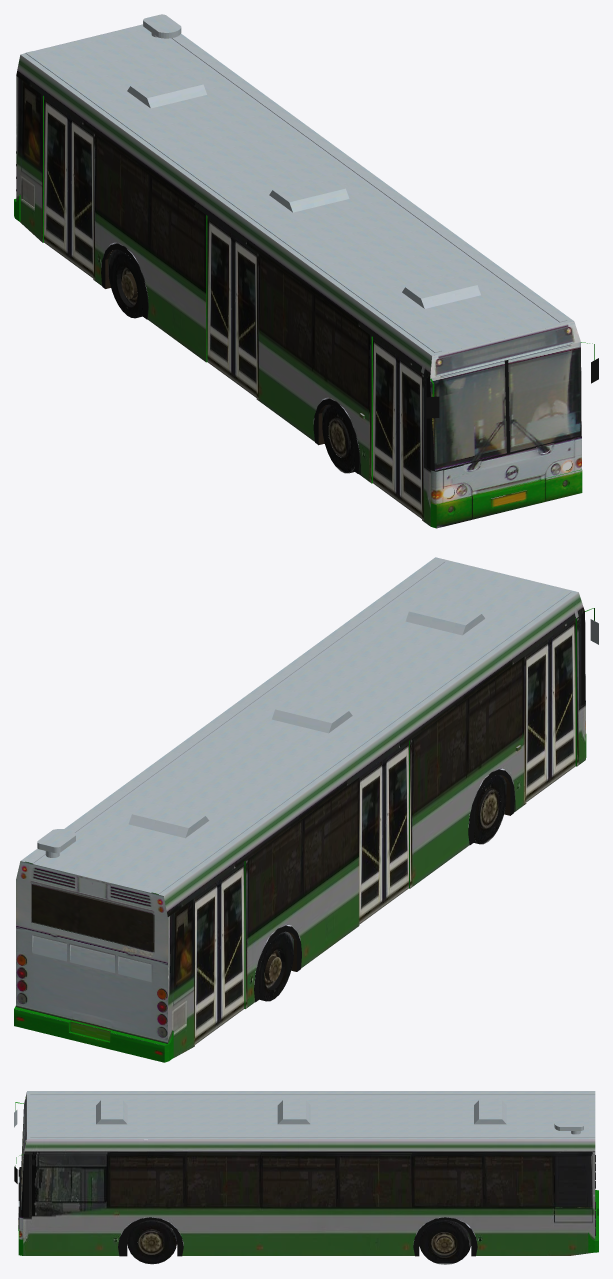
Rendered from bus-liaz.glb.
3 views of the same model, one above another, from view 1: azimuth 30°, elevation 25°; view 2: azimuth 150°, elevation 25°; view 3: azimuth 270°, elevation 25° (orthographic). The views are drawn at different scales.
Visible parts, largest first — view 1: Material3.005, Material2.002, Material3.001, Material2, Material3; view 2: Material3.005, Material2.002, Material3.003, Material2, Material3; view 3: Material3.006, Material2.002, Material2, Material3, Material3.001.
Part boxes in pixels (bbox=[...]): Material3.005: bbox=[16, 55, 431, 526]; Material2.002: bbox=[20, 14, 573, 470]; Material3.001: bbox=[430, 321, 582, 528]; Material2: bbox=[101, 243, 598, 519]; Material3: bbox=[14, 95, 594, 528]; Material3.005: bbox=[164, 592, 585, 1057]; Material2.002: bbox=[21, 557, 598, 895]; Material3.003: bbox=[14, 861, 167, 1062]; Material2: bbox=[19, 612, 585, 1002]; Material3: bbox=[14, 608, 594, 1062]; Material3.006: bbox=[23, 1139, 595, 1264]; Material2.002: bbox=[14, 1091, 595, 1206]; Material2: bbox=[14, 1134, 595, 1256]; Material3: bbox=[15, 1102, 598, 1255]; Material3.001: bbox=[18, 1092, 26, 1237].
Size of the model in its own units: 2.83 by 3.04 by 12.
10 materials, 7 textured.
